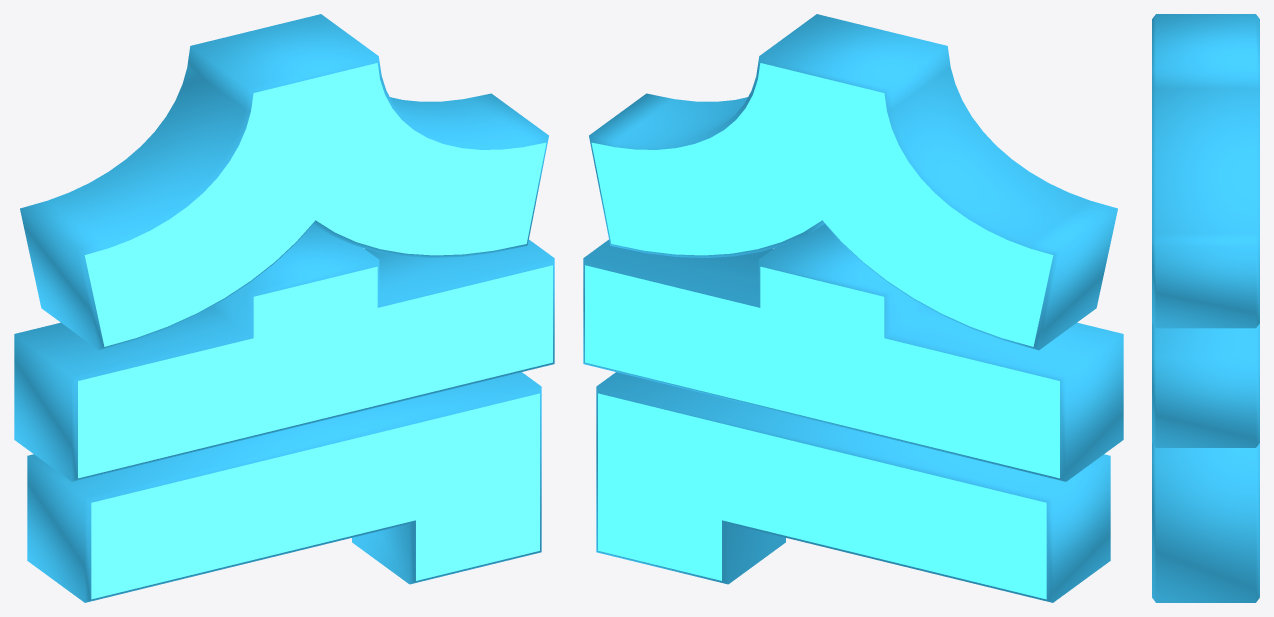
3 renders of one model, left to right at view 1: azimuth 30°, elevation 25°; view 2: azimuth 150°, elevation 25°; view 3: azimuth 270°, elevation 25°, orthographic. The views are drawn at different scales.
Visible parts, largest first — view 1: glyph; view 2: glyph; view 3: glyph.
Part boxes in pixels (x1,y1,x2,y2): glyph: (14,14,554,602); glyph: (583,14,1123,602); glyph: (1152,14,1259,602).
Size of the model in its own units: 0.0726 by 0.077 by 0.0162.
